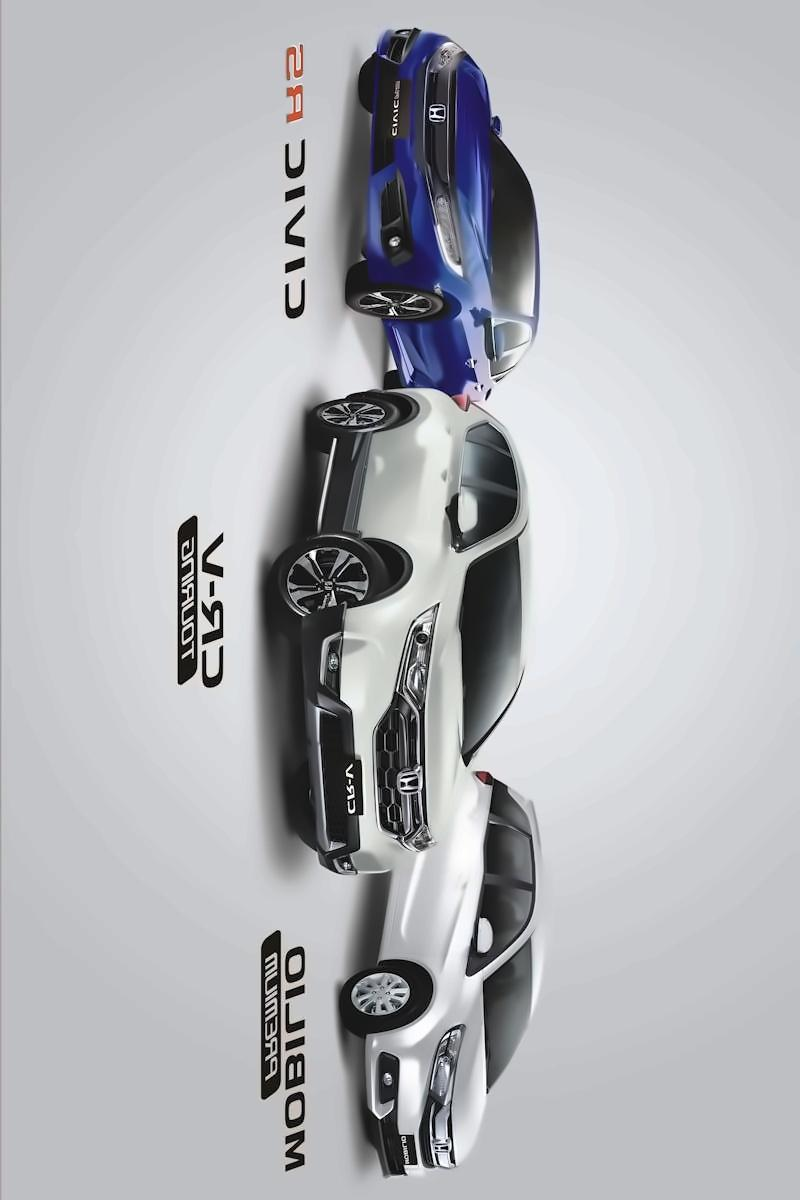Car hood: (424, 557, 492, 837), (452, 51, 493, 278), (450, 977, 490, 1167)
Driver-s door - -F-R-: (305, 465, 541, 557), (373, 870, 541, 973)
Fender - -F-L-: (363, 266, 503, 333)
Fender - -F-R-: (292, 519, 478, 626)
Fender - -R-R-: (362, 948, 498, 1039), (348, 375, 501, 434)
Front bumper: (295, 591, 425, 878), (360, 25, 447, 291), (361, 1005, 449, 1182)
Headlight - -L-: (433, 195, 469, 282), (405, 822, 440, 855)
Headlight - -R-: (393, 602, 438, 716), (424, 1023, 466, 1107), (427, 40, 469, 77)
Passenger-s door - -F-L-: (385, 307, 538, 372)
Passenger-s door - -R-L-: (386, 343, 537, 387)
Passenger-s door - -R-R-: (323, 409, 541, 492), (388, 814, 557, 891)
Rear light - -R-: (448, 394, 474, 414)
Side bumper - -L-: (379, 312, 426, 388)
Side bumper - -R-: (308, 432, 378, 537), (372, 867, 427, 964)
Side mirror - -L-: (484, 315, 511, 365)
Side mirror - -R-: (444, 489, 480, 554), (468, 912, 496, 960)
